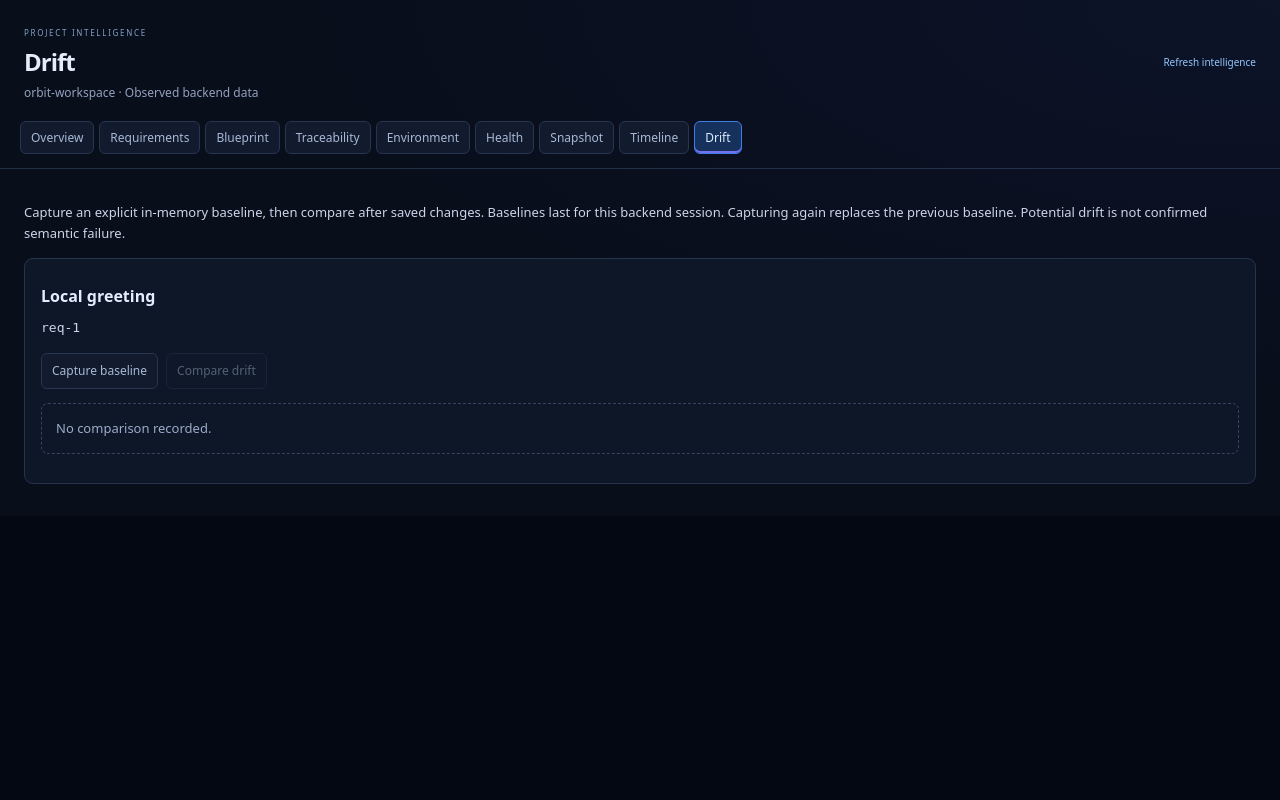
Test: requires an explicit baseline before comparison and presents CONFIRMED_STRUCTURAL_DRIFT unchanged
Check: the button "Refresh intelligence" is enabled, box [1163,50,1256,74]
Check: the button "Compare drift" is disabled, box [166,353,267,388]
Click the button "Capture baseline".
click(100, 371)  # box [41,353,158,388]
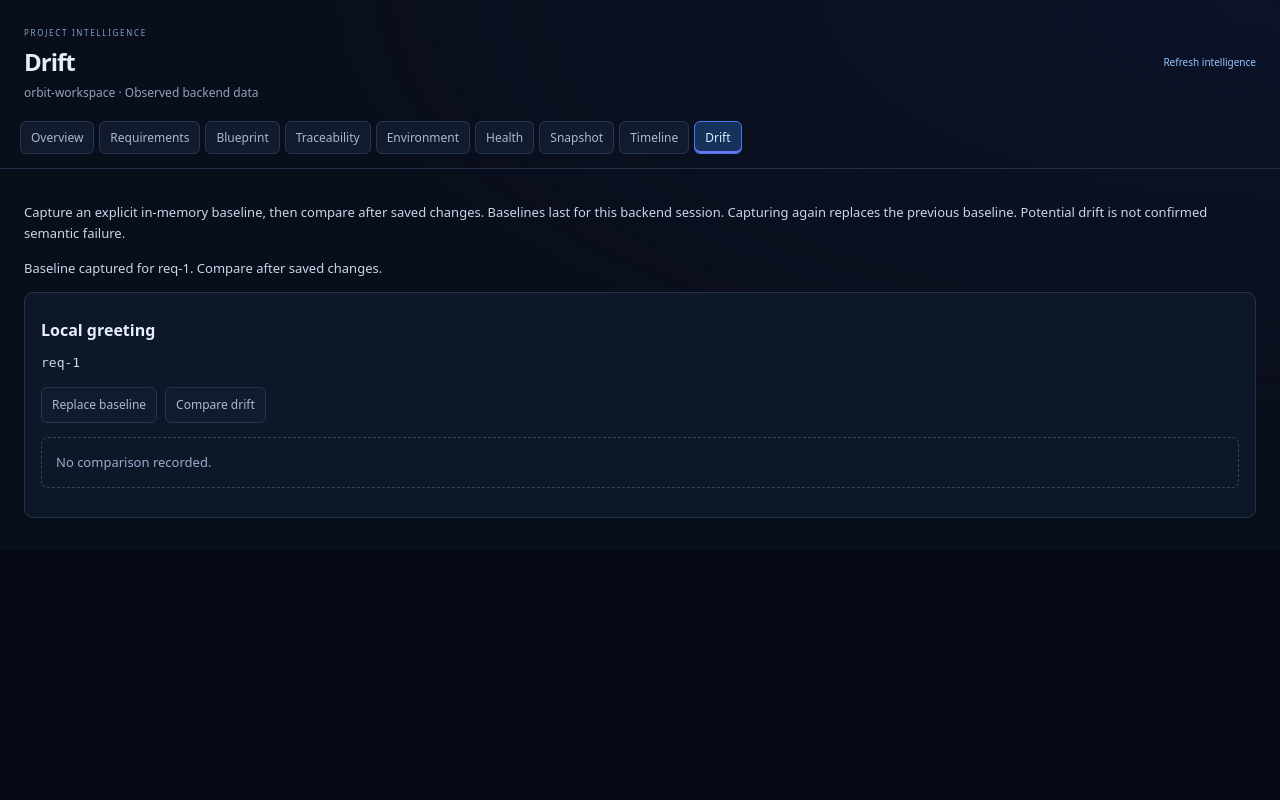
Check: the button "Replace baseline" is shown, box [41,387,157,423]
Click the button "Compare drift".
click(215, 405)  # box [165,387,266,423]
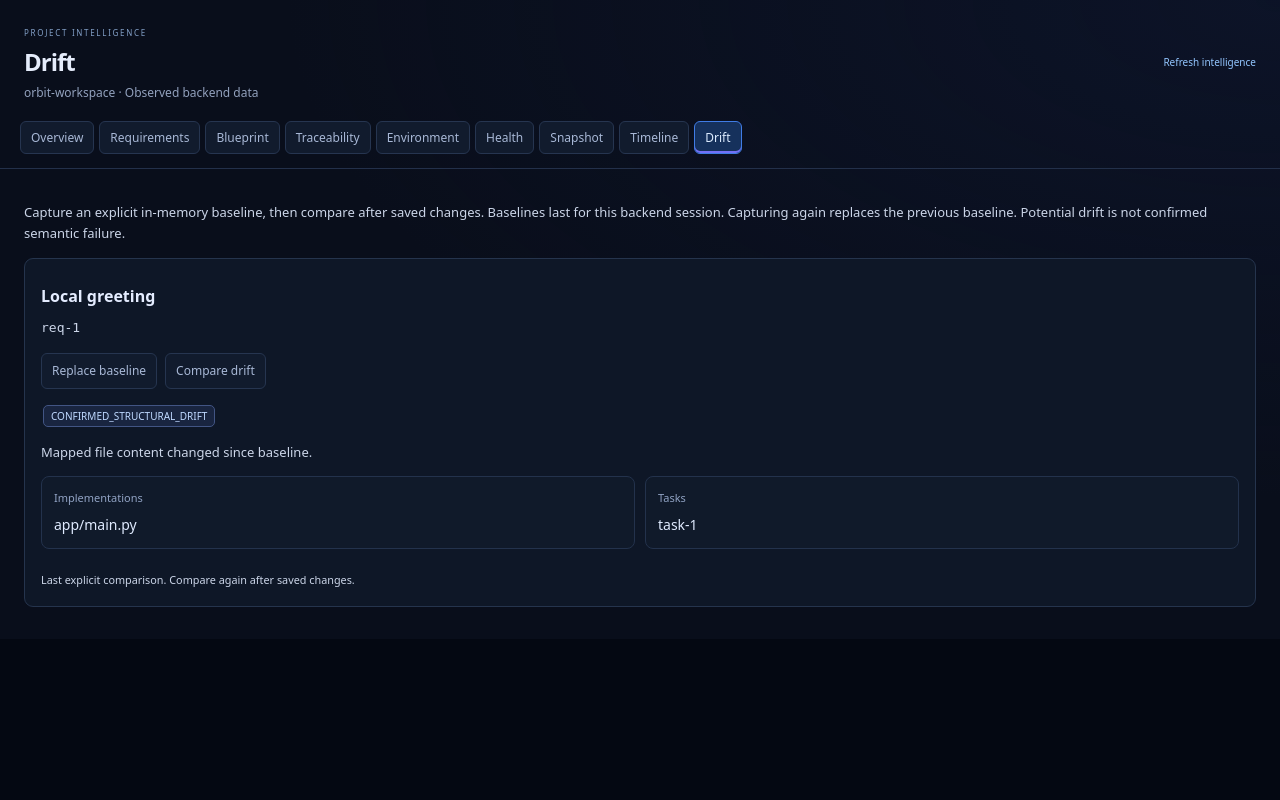
Check: the text "CONFIRMED_STRUCTURAL_DRIFT" is shown, box [43,404,215,427]
Check: the text "app/main.py" is shown, box [54,515,137,534]
